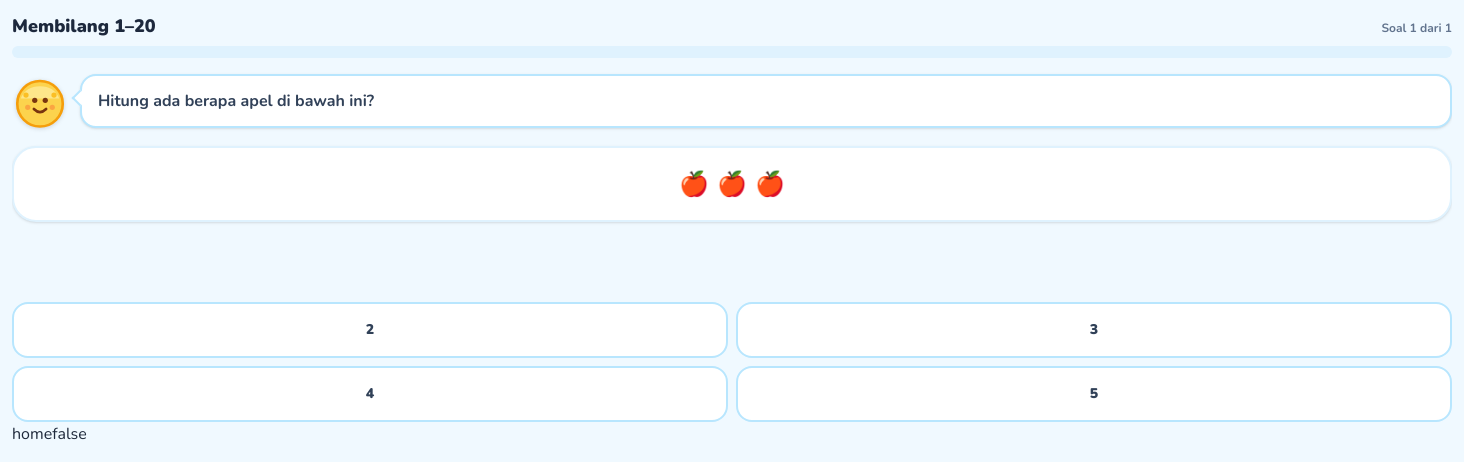
Test case: ConceptLearnScreen › menyelesaikan semua soal berpindah ke result screen
Click the button "3" at (1094, 330), box x1=736 y1=302 x2=1452 y2=358
Wait 700 ms
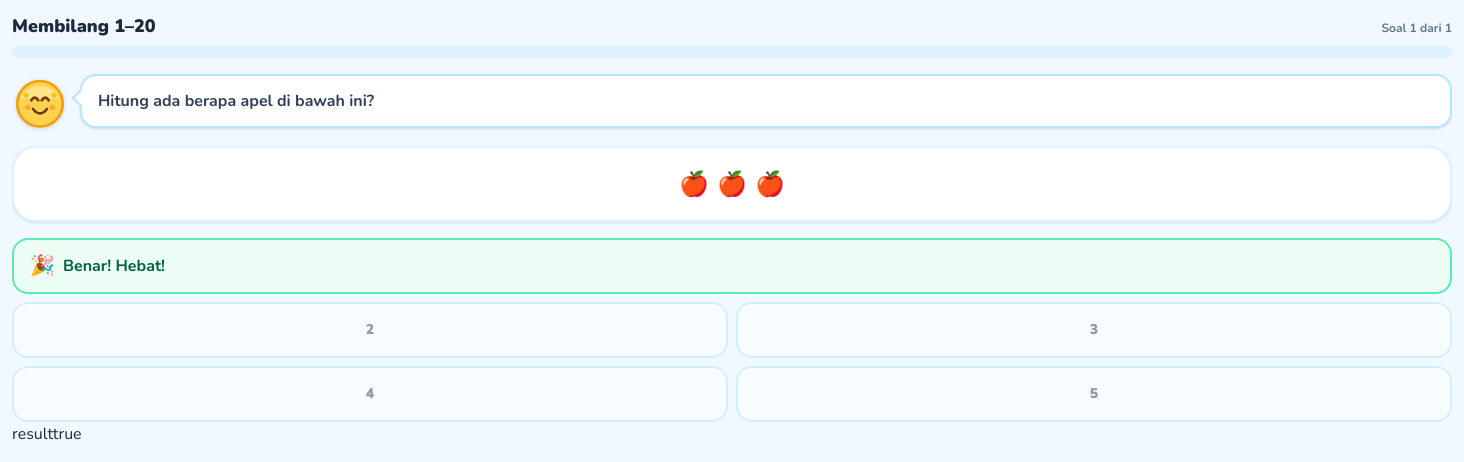
Check: the text with test id "probe-screen" reads "result", box x1=12 y1=423 x2=53 y2=445
